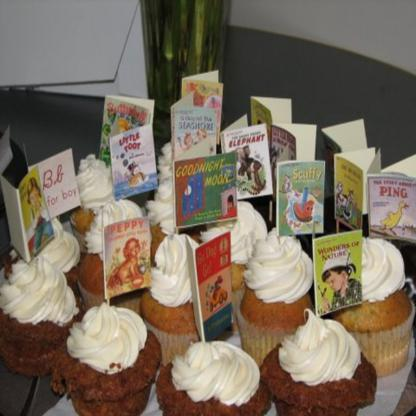book: (0, 164, 56, 262), (308, 230, 370, 318), (174, 150, 238, 232), (366, 146, 416, 250), (96, 90, 156, 170), (26, 150, 85, 231), (190, 230, 232, 340), (331, 148, 382, 237), (220, 114, 271, 202), (108, 116, 160, 202), (272, 152, 324, 236), (269, 125, 318, 208), (322, 116, 372, 196), (100, 216, 150, 294), (168, 90, 218, 164), (178, 72, 221, 148), (251, 97, 299, 141), (0, 122, 14, 181)
